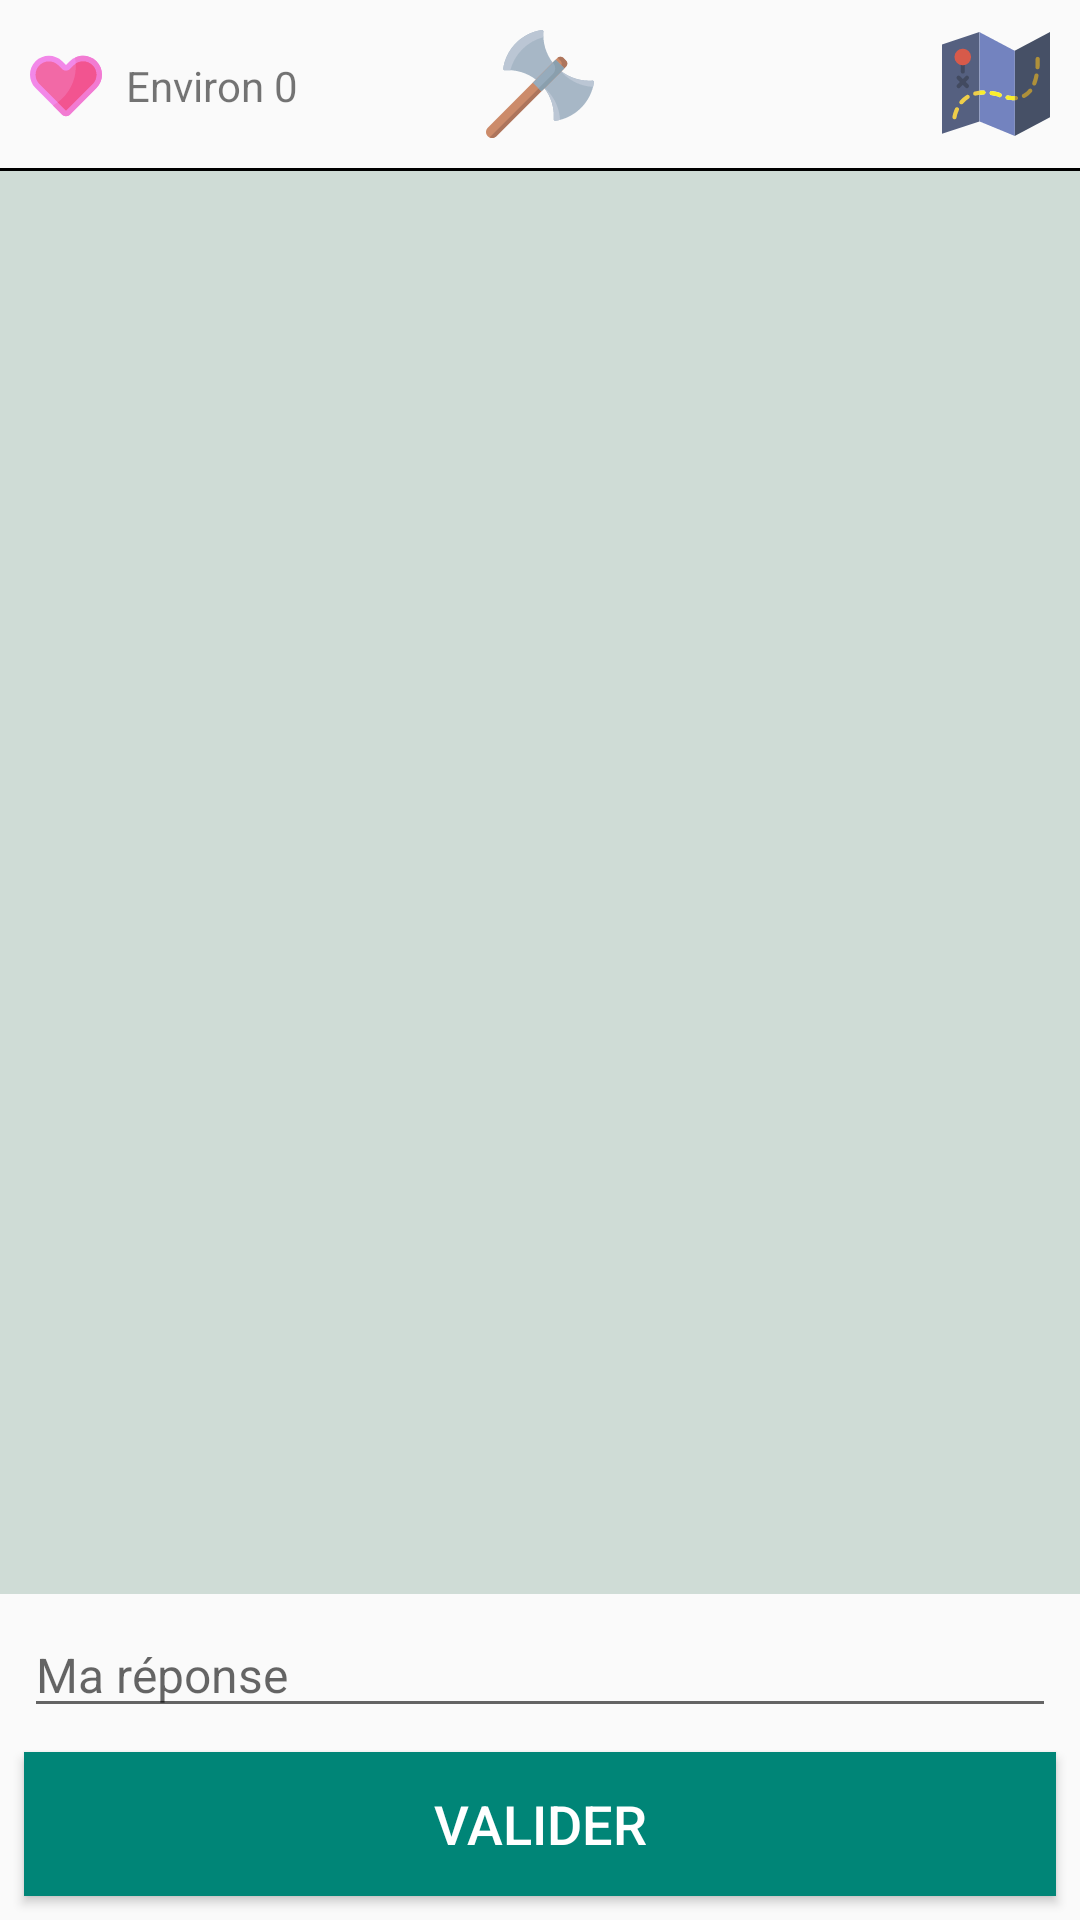

Icon bounding boxes for this 1080×1920 phone screenshot, format (x1, y1, x2, y2):
map: (942, 32, 1050, 136)
